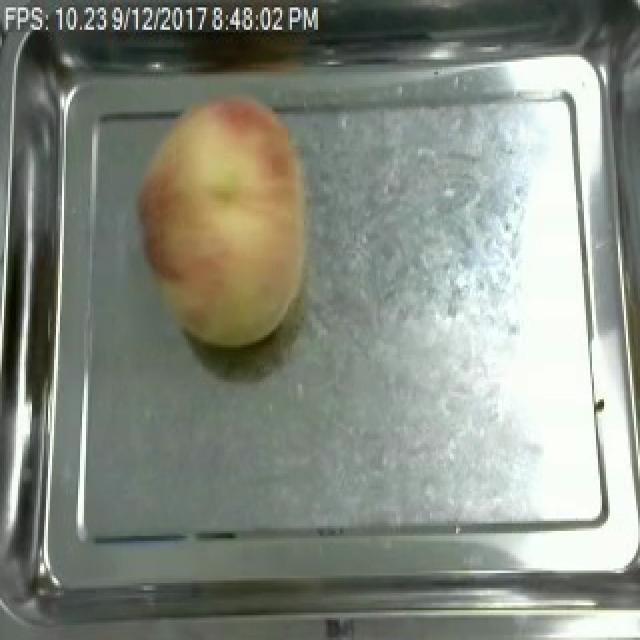Fruit: (130, 82, 320, 355)
